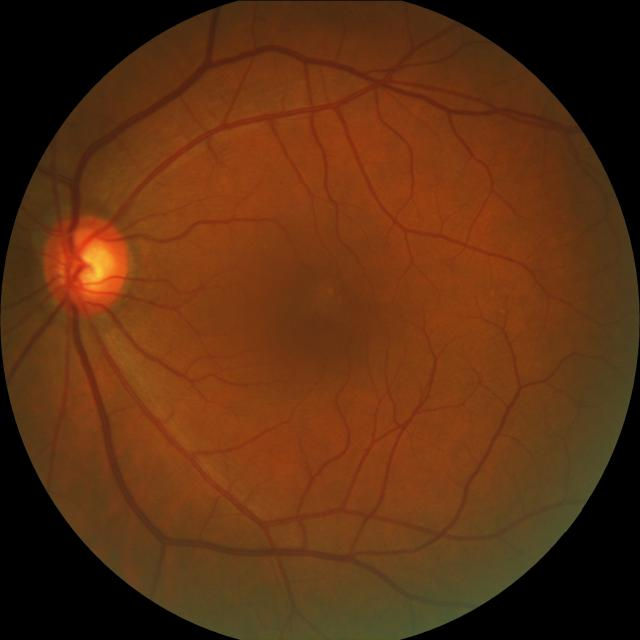OC: (56, 229, 116, 299)
OD: (39, 211, 128, 314)
